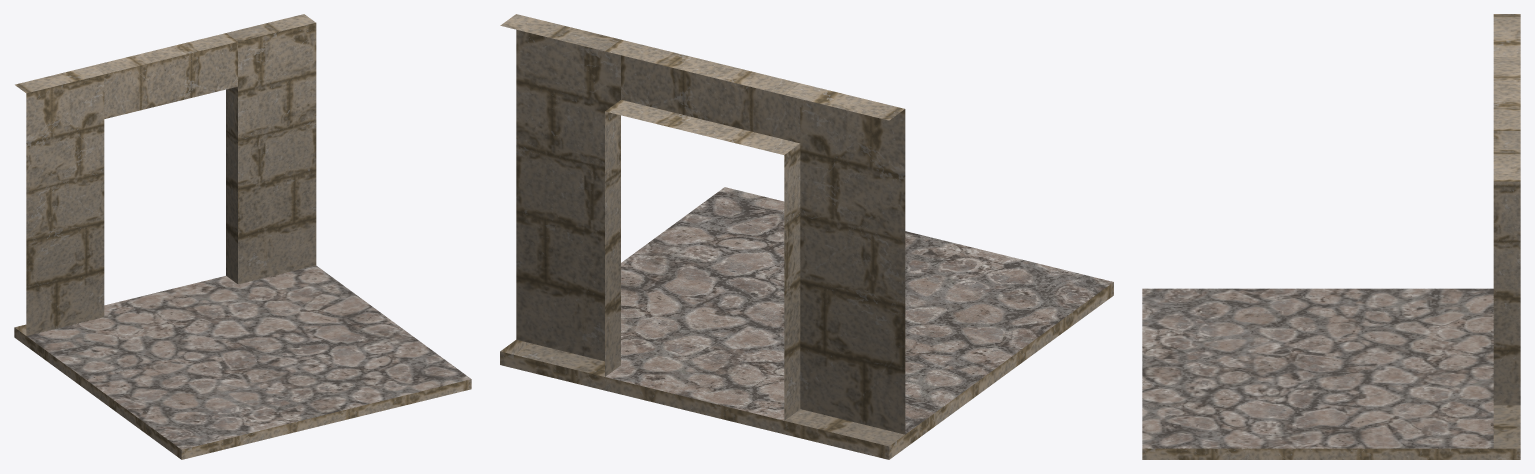
The model's file is ModuleWallDoorWithGround.fbx.
3 views of the same model, side by side, from view 1: azimuth 30°, elevation 25°; view 2: azimuth 150°, elevation 25°; view 3: azimuth 270°, elevation 25° (orthographic). The views are drawn at different scales.
Visible parts, largest first — view 1: ModuleWallDoorWithGroundWalls, ModuleWallDoorWithGroundFloorTile, ModuleWallDoorWithGroundFloorEdge; view 2: ModuleWallDoorWithGroundWalls, ModuleWallDoorWithGroundFloorTile, ModuleWallDoorWithGroundFloorEdge; view 3: ModuleWallDoorWithGroundFloorTile, ModuleWallDoorWithGroundWalls, ModuleWallDoorWithGroundFloorEdge.
Part boxes in pixels (<box>): ModuleWallDoorWithGroundWalls: <box>15,14,316,335</box>; ModuleWallDoorWithGroundFloorTile: <box>26,265,471,449</box>; ModuleWallDoorWithGroundFloorEdge: <box>14,324,471,459</box>; ModuleWallDoorWithGroundWalls: <box>500,14,905,434</box>; ModuleWallDoorWithGroundFloorTile: <box>605,187,1113,434</box>; ModuleWallDoorWithGroundFloorEdge: <box>500,282,1113,459</box>; ModuleWallDoorWithGroundFloorTile: <box>1142,288,1493,448</box>; ModuleWallDoorWithGroundWalls: <box>1493,14,1520,405</box>; ModuleWallDoorWithGroundFloorEdge: <box>1142,405,1520,459</box>.
Size of the model in its own units: 300 by 250 by 300.
